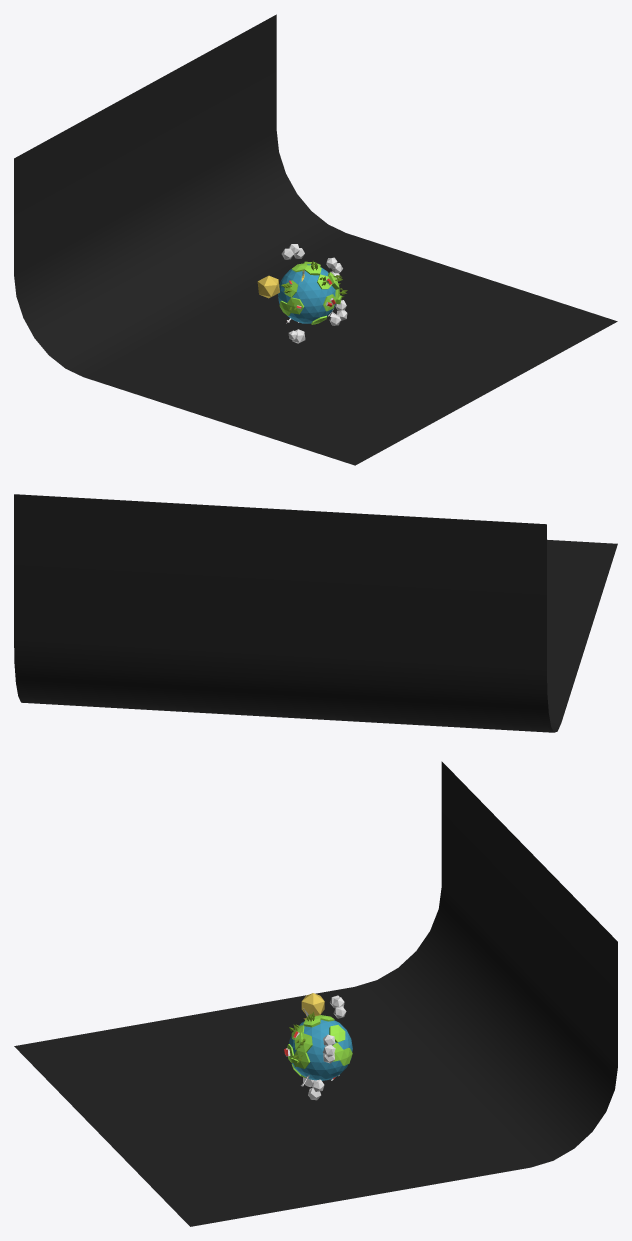
Rendered from Planet.gltf.
3 views of the same model, one above another, from view 1: azimuth 30°, elevation 25°; view 2: azimuth 150°, elevation 25°; view 3: azimuth 270°, elevation 25° (orthographic). The views are drawn at different scales.
Visible parts, largest first — view 1: Plane.001, Icosphere.001, Icosphere; view 2: Plane.001; view 3: Plane.001, Icosphere.001, Icosphere.
Boxes of the visible parts, x1=… form: Plane.001: x1=14, y1=14, x2=617, y2=465; Icosphere.001: x1=278, y1=264, x2=335, y2=323; Icosphere: x1=279, y1=261, x2=341, y2=324; Plane.001: x1=14, y1=494, x2=617, y2=732; Plane.001: x1=14, y1=761, x2=617, y2=1226; Icosphere.001: x1=289, y1=1020, x2=352, y2=1080; Icosphere: x1=287, y1=1015, x2=352, y2=1077.
Bounding box in the file's own units: 19.81 × 7.62 × 19.81.
